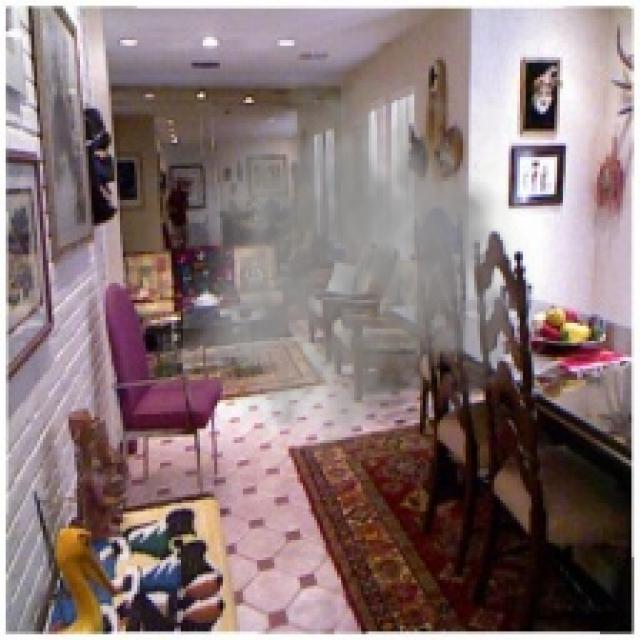smoke: (183, 57, 548, 460)
